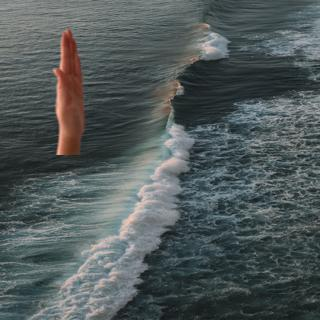Right: (47, 25, 89, 147)
